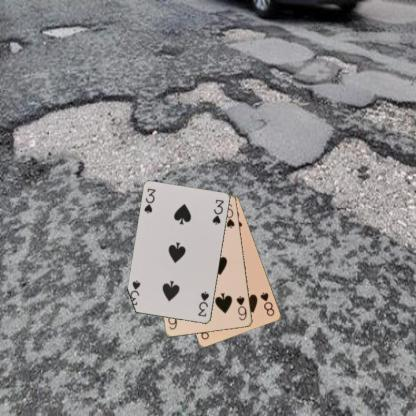3s: (142, 186, 157, 215), (196, 289, 210, 318)
6s: (234, 293, 248, 322)
8s: (258, 290, 276, 317)
